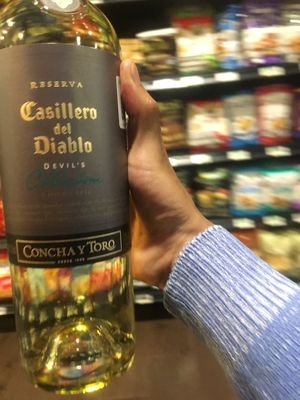casillero del diablo devils collection verde: (1, 8, 149, 392)
